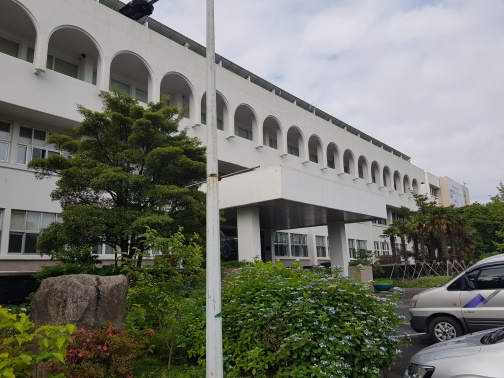Main Building of University: (23, 6, 468, 275), (224, 164, 395, 275), (233, 103, 393, 190)
